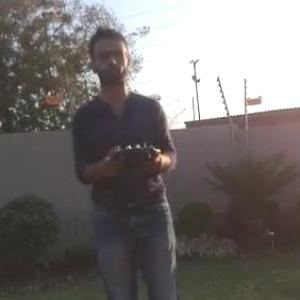follow: (69, 23, 185, 299)
